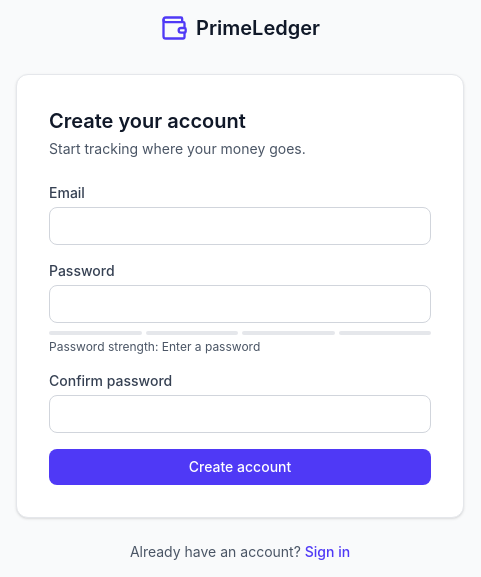
Test: SignUpPage › asks the user to check their inbox when confirmation is required
Step 1. Type "ada@example.com" into the field labelled "Email" → (240, 226), box [49,207,431,245]
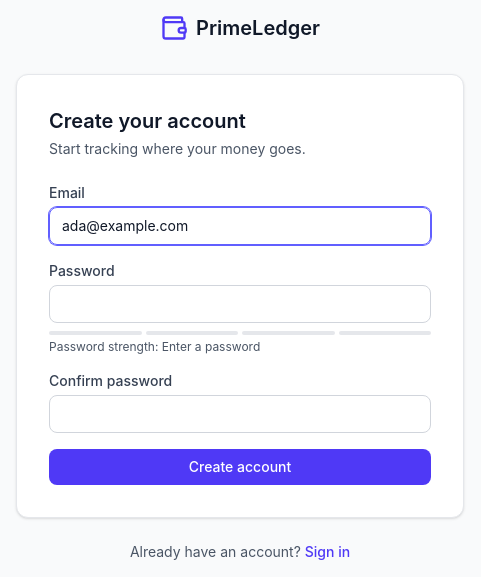
Step 2. Type "hunter2hunter2" into the password field labelled "Password" → (240, 304), box [49,285,431,323]
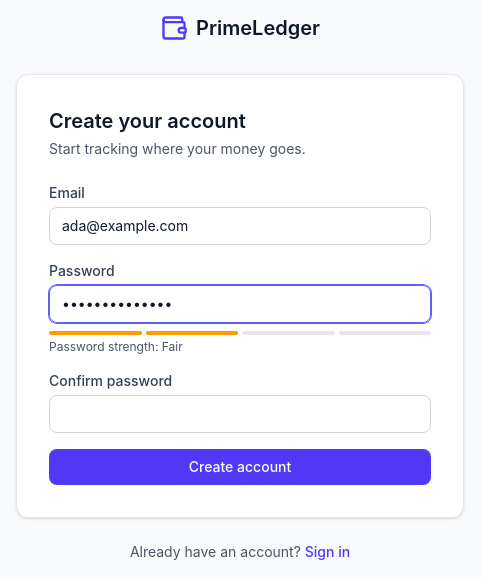
Step 3. Type "hunter2hunter2" into the password field labelled "Confirm password" → (240, 414), box [49,395,431,433]
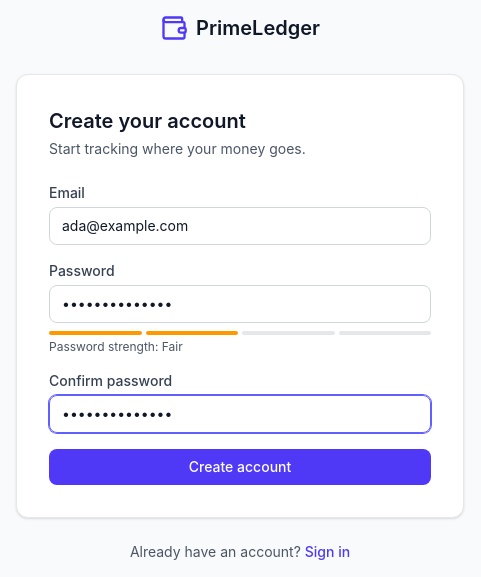
Step 4. Click the button "Create account" → (240, 467), box [49,449,431,485]
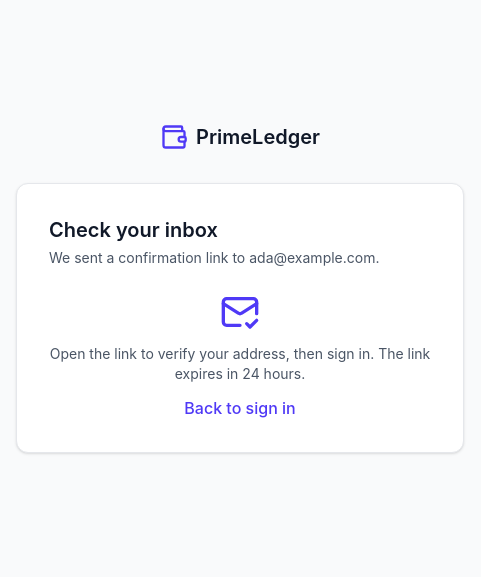
Expected: the heading "Check your inbox" is shown, [49,218,218,242]
Expected: the text "We sent a confirmation link to ada@example.com." is shown, [49,248,431,268]
